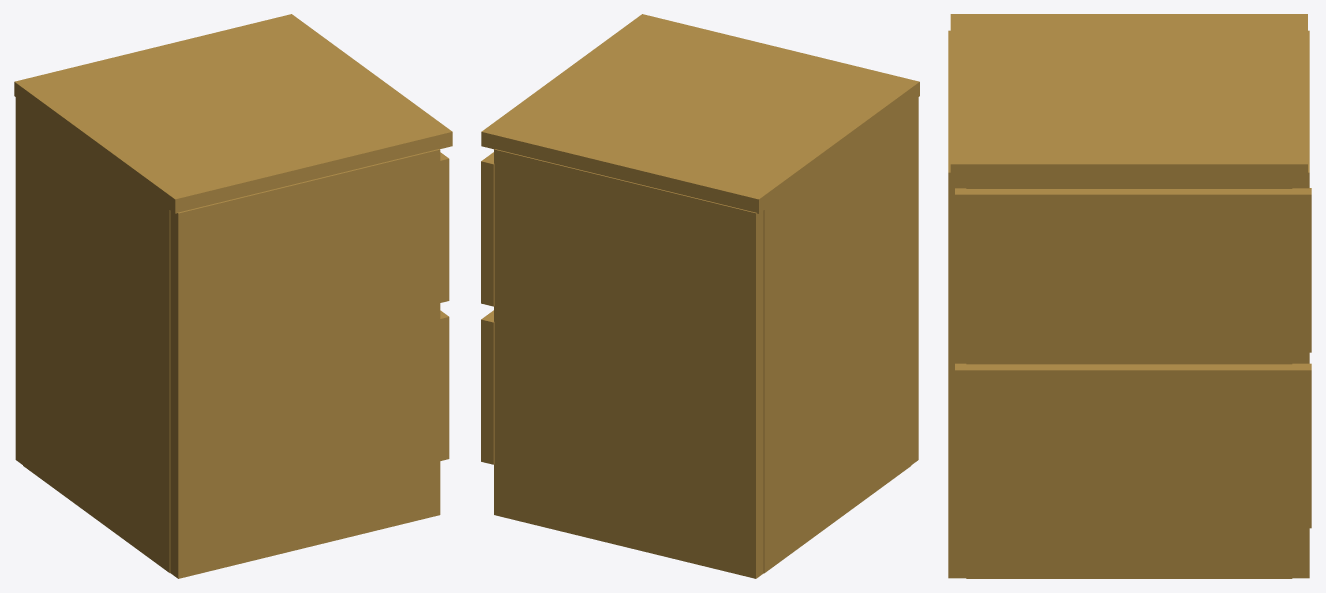
The model's file is Komod1.glb.
3 renders of one model, left to right at view 1: azimuth 30°, elevation 25°; view 2: azimuth 150°, elevation 25°; view 3: azimuth 270°, elevation 25°, orthographic. The views are drawn at different scales.
Parts seen in each view (by area): view 1: Куб.004; view 2: Куб.004; view 3: Куб.004.
Part boxes in pixels (<box>): Куб.004: <box>14,14,452,578</box>; Куб.004: <box>481,14,919,578</box>; Куб.004: <box>948,14,1311,578</box>.
Bounding box in the file's own units: 2 × 2.61 × 2.04.
